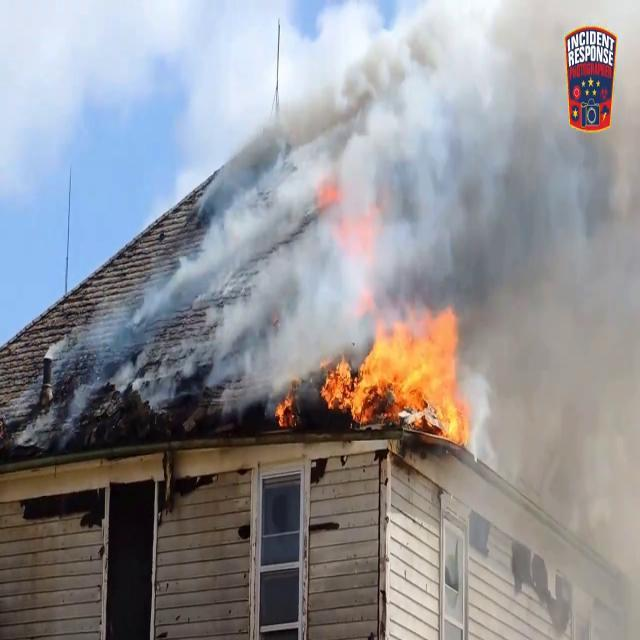Fire: (322, 308, 474, 440)
Smoke: (150, 0, 548, 374), (468, 82, 640, 640), (22, 278, 176, 452)
